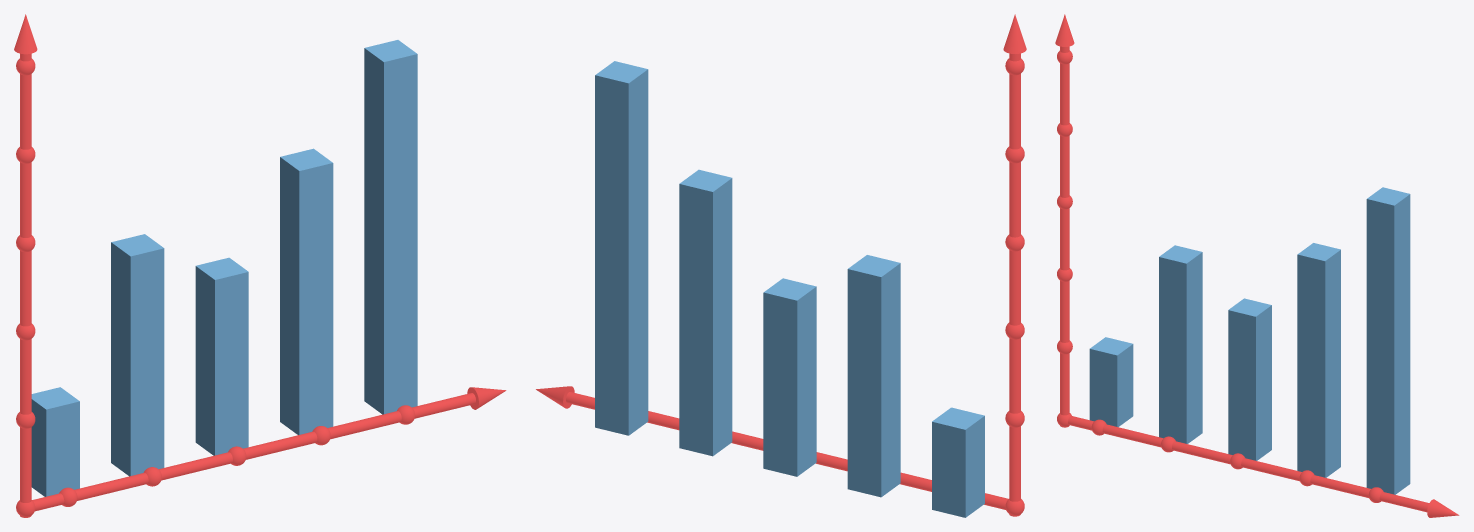
File: BarChart.gltf
The picture shows the model from 3 angles, left to right: view 1: azimuth 30°, elevation 25°; view 2: azimuth 150°, elevation 25°; view 3: azimuth 330°, elevation 25°; orthographic projection. The views are drawn at different scales.
Parts seen in each view (by area): view 1: BarChart; view 2: BarChart; view 3: BarChart.
Boxes of the visible parts, <box> form: BarChart: <box>14,14,506,517</box>; BarChart: <box>536,14,1026,517</box>; BarChart: <box>1055,14,1459,517</box>.
Size of the model in its own units: 2.91 by 2.85 by 0.31.
